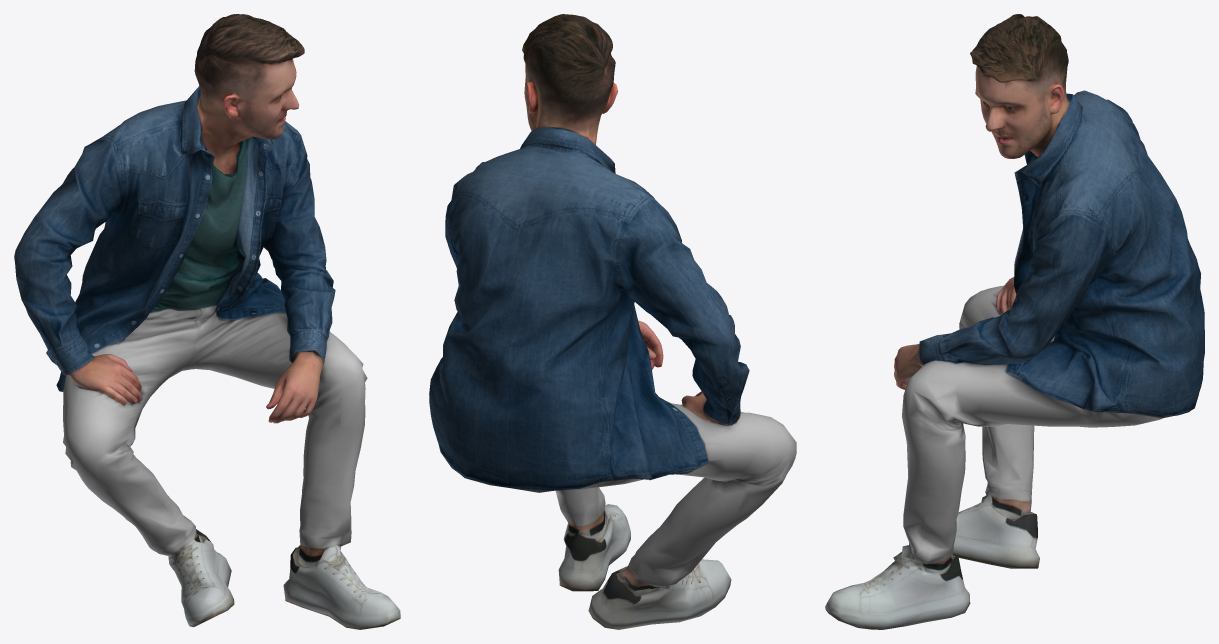
The model's file is Humano_Posed_0341842-Man_03_LOD2.fbx.
3 views of the same model, side by side, from view 1: azimuth 30°, elevation 25°; view 2: azimuth 150°, elevation 25°; view 3: azimuth 270°, elevation 25° (orthographic). The views are drawn at different scales.
Parts seen in each view (by area): view 1: Humano_Posed_0341842-Man_03_LOD2; view 2: Humano_Posed_0341842-Man_03_LOD2; view 3: Humano_Posed_0341842-Man_03_LOD2.
Boxes of the visible parts, bbox=[...] form: Humano_Posed_0341842-Man_03_LOD2: bbox=[14, 14, 400, 629]; Humano_Posed_0341842-Man_03_LOD2: bbox=[429, 14, 796, 629]; Humano_Posed_0341842-Man_03_LOD2: bbox=[825, 14, 1204, 629].
Size of the model in its own units: 69.61 by 134 by 80.11.
1 material, 1 textured.
